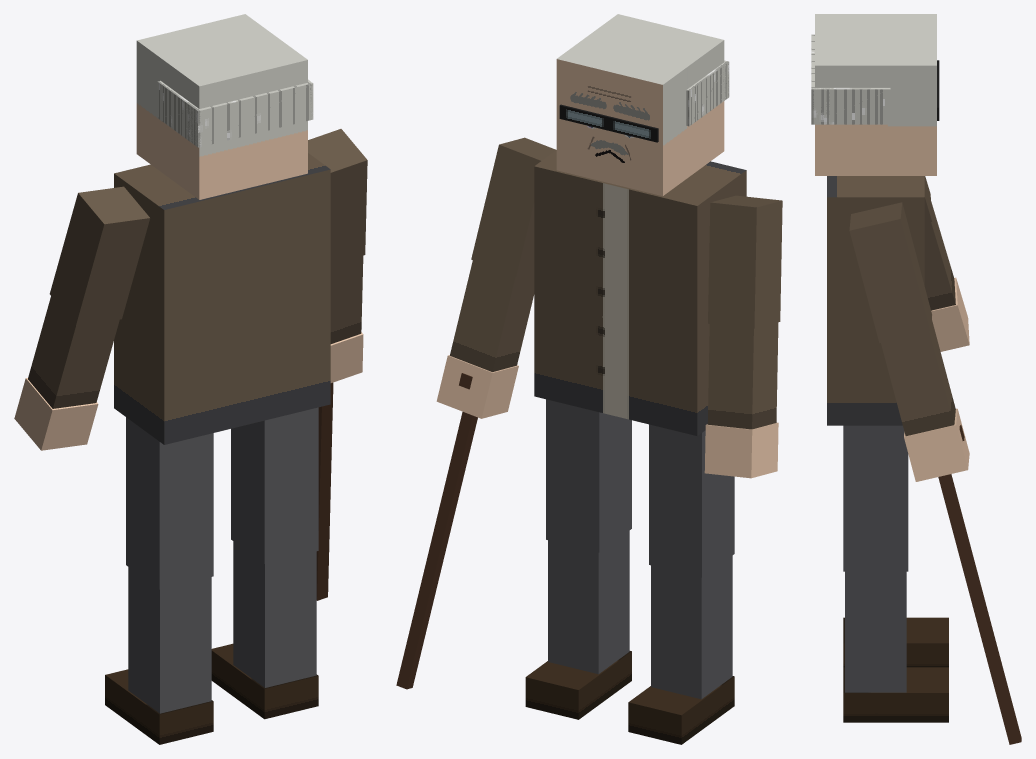
File: survivor_elder.glb
The picture shows the model from 3 angles, left to right: view 1: azimuth 30°, elevation 25°; view 2: azimuth 150°, elevation 25°; view 3: azimuth 270°, elevation 25°; orthographic projection. The views are drawn at different scales.
Parts seen in each view (by area): view 1: block_torso, block_head, block_thigh.L, block_thigh.R, block_shin.R, block_shin.L, block_upper_arm.L, block_forearm.L, block_upper_arm.R, block_hair-ring-back, block_foot.L, block_foot.R (+5 smaller); view 2: block_torso, block_head, block_thigh.R, block_thigh.L, block_shin.L, block_shin.R, block_upper_arm.L, block_forearm.L, block_upper_arm.R, block_forearm.R, block_cane, block_foot.L (+5 smaller); view 3: block_head, block_torso, block_thigh.R, block_upper_arm.R, block_shin.R, block_forearm.R, block_foot.R, block_cane, block_hand.R, block_hair-ring-side, block_foot.L, block_forearm.L (+2 smaller).
Part boxes in pixels (<box>): block_torso: <box>114,153,330,444</box>; block_head: <box>136,14,307,199</box>; block_thigh.L: <box>126,417,213,589</box>; block_thigh.R: <box>231,407,318,563</box>; block_shin.R: <box>233,541,316,687</box>; block_shin.L: <box>128,567,211,713</box>; block_upper_arm.L: <box>49,186,150,325</box>; block_forearm.L: <box>28,296,119,408</box>; block_upper_arm.R: <box>308,129,367,266</box>; block_hair-ring-back: <box>186,79,313,147</box>; block_foot.L: <box>105,669,213,744</box>; block_foot.R: <box>211,643,318,719</box>; block_torso: <box>534,150,746,436</box>; block_head: <box>556,14,724,196</box>; block_thigh.R: <box>546,399,631,552</box>; block_thigh.L: <box>649,424,734,577</box>; block_shin.L: <box>651,555,732,699</box>; block_shin.R: <box>548,530,629,674</box>; block_upper_arm.L: <box>708,195,782,328</box>; block_forearm.L: <box>707,322,778,429</box>; block_upper_arm.R: <box>471,137,555,276</box>; block_forearm.R: <box>450,260,534,371</box>; block_cane: <box>396,412,477,689</box>; block_foot.L: <box>628,676,734,744</box>; block_head: <box>815,14,936,175</box>; block_torso: <box>827,176,924,425</box>; block_thigh.R: <box>843,425,908,571</box>; block_upper_arm.R: <box>849,202,931,343</box>; block_shin.R: <box>845,571,906,692</box>; block_forearm.R: <box>881,319,955,436</box>; block_foot.R: <box>843,667,948,722</box>; block_cane: <box>938,474,1021,744</box>; block_hand.R: <box>904,408,969,481</box>; block_hair-ring-side: <box>811,87,890,124</box>; block_foot.L: <box>843,617,948,667</box>; block_forearm.L: <box>924,201,955,310</box>.
Bounding box in the file's own units: 0.9252 × 1.75 × 0.5179.
Materials: 1 (1 with a texture image).
